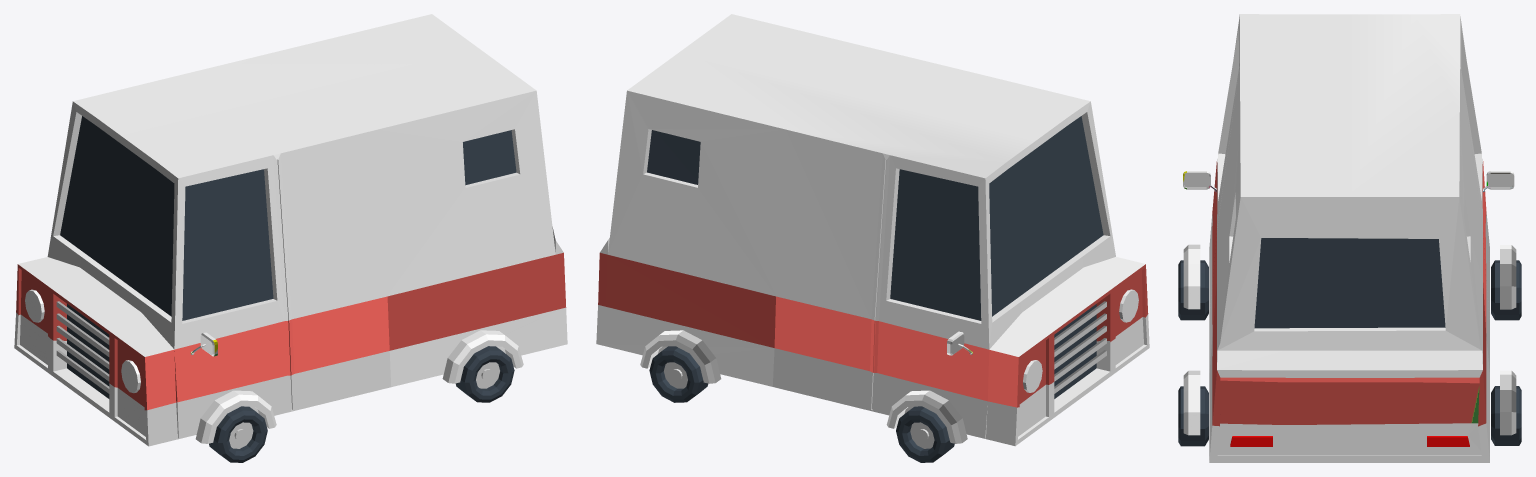
File: ambulance.fbx
The picture shows the model from 3 angles, left to right: view 1: azimuth 30°, elevation 25°; view 2: azimuth 150°, elevation 25°; view 3: azimuth 270°, elevation 25°; orthographic projection. The views are drawn at different scales.
Visible parts, largest first — view 1: ambulance; view 2: ambulance; view 3: ambulance.
Part boxes in pixels (box(x1,y1,x2,y2)): ambulance: box(14, 14, 567, 462); ambulance: box(596, 14, 1149, 462); ambulance: box(1178, 14, 1521, 462).
Size of the model in its own units: 321 by 200 by 218.
1 material, 1 textured.
